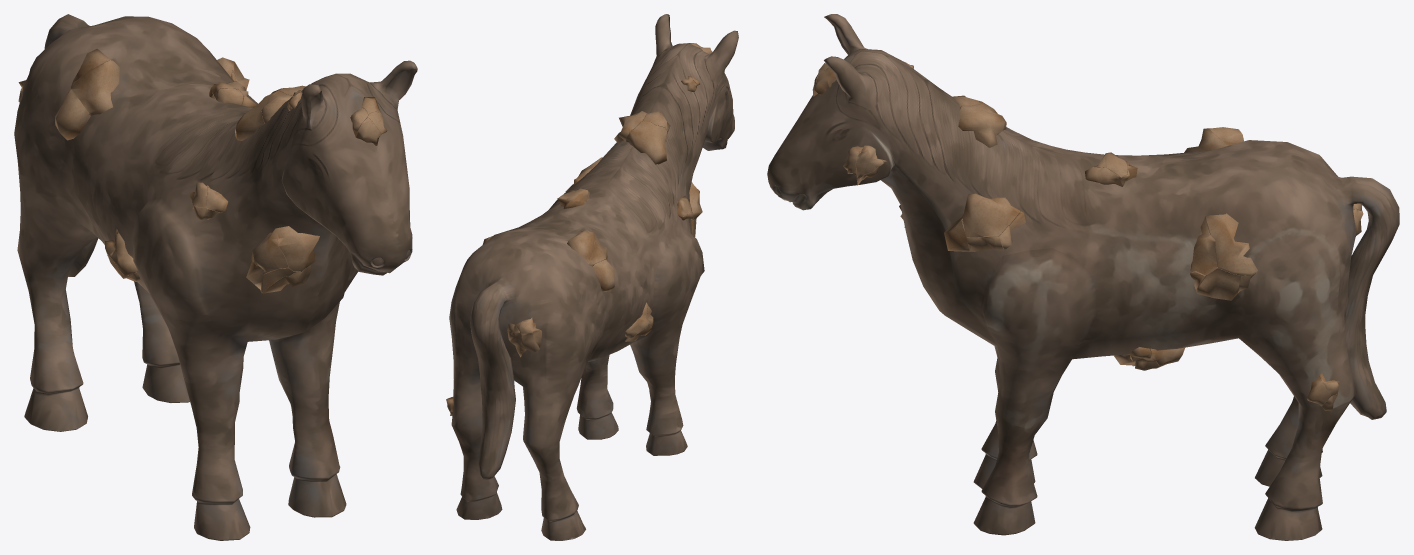
The model's file is Horse.fbx.
3 views of the same model, side by side, from view 1: azimuth 30°, elevation 25°; view 2: azimuth 150°, elevation 25°; view 3: azimuth 270°, elevation 25° (orthographic). The views are drawn at different scales.
Visible parts, largest first — view 1: Paperweight_Horse_Mesh, Dirt_Jar_3_cell.001, Dirt_Jar_1_1_cell, Dirt_Jar_3_cell.002, Dirt_Jar_1_1_cell.003, Dirt_Jar_2_cell.001, Dirt_Jar_1_1_cell.002, Dirt_Jar_5_cell, Dirt_Jar_1_1_cell.001, Dirt_Jar_3_cell; view 2: Paperweight_Horse_Mesh, Dirt_Jar_2_cell.001, Dirt_Jar_3_cell, Dirt_Jar_3_cell.002, Dirt_Jar_2_cell, Dirt_Jar_4_cell.001, Dirt_Jar_3_cell.001; view 3: Paperweight_Horse_Mesh, Dirt_Jar_2_1_cell.003, Dirt_Jar_1_cell.003, Dirt_Jar_2_cell, Dirt_Jar_1_cell.004, Dirt_Jar_1_cell.002.
Part boxes in pixels (bbox=[...]): Paperweight_Horse_Mesh: bbox=[14, 14, 417, 540]; Dirt_Jar_3_cell.001: bbox=[70, 60, 119, 115]; Dirt_Jar_1_1_cell: bbox=[276, 226, 319, 271]; Dirt_Jar_3_cell.002: bbox=[55, 89, 90, 140]; Dirt_Jar_1_1_cell.003: bbox=[251, 228, 288, 273]; Dirt_Jar_2_cell.001: bbox=[235, 90, 278, 140]; Dirt_Jar_1_1_cell.002: bbox=[246, 261, 296, 292]; Dirt_Jar_5_cell: bbox=[110, 233, 137, 275]; Dirt_Jar_1_1_cell.001: bbox=[254, 265, 311, 293]; Dirt_Jar_3_cell: bbox=[72, 48, 111, 83]; Paperweight_Horse_Mesh: bbox=[449, 14, 738, 540]; Dirt_Jar_2_cell.001: bbox=[626, 121, 667, 164]; Dirt_Jar_3_cell: bbox=[567, 230, 594, 263]; Dirt_Jar_3_cell.002: bbox=[592, 259, 614, 291]; Dirt_Jar_2_cell: bbox=[614, 111, 646, 143]; Dirt_Jar_4_cell.001: bbox=[521, 330, 541, 353]; Dirt_Jar_3_cell.001: bbox=[580, 230, 607, 266]; Paperweight_Horse_Mesh: bbox=[767, 14, 1399, 540]; Dirt_Jar_2_1_cell.003: bbox=[961, 193, 1020, 237]; Dirt_Jar_1_cell.003: bbox=[1205, 213, 1257, 275]; Dirt_Jar_2_cell: bbox=[958, 104, 1004, 147]; Dirt_Jar_1_cell.004: bbox=[1196, 267, 1240, 300]; Dirt_Jar_1_cell.002: bbox=[1190, 218, 1217, 275].
Size of the model in its own units: 337 by 825 by 1009.
2 materials, 2 textured.
